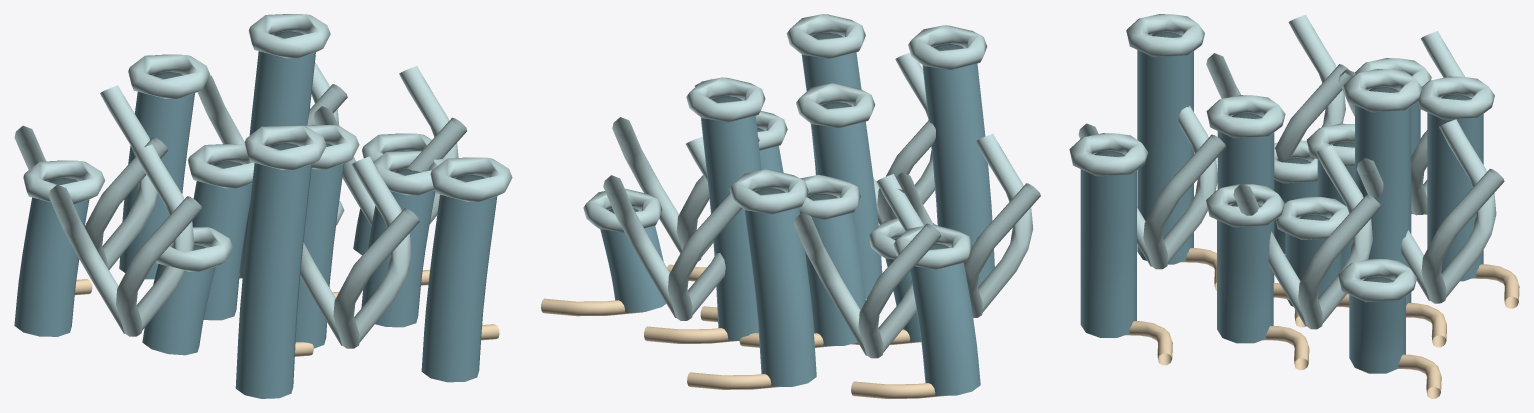
File: bio_thermal_colony_09_far.glb
3 views of the same model, side by side, from view 1: azimuth 30°, elevation 25°; view 2: azimuth 150°, elevation 25°; view 3: azimuth 270°, elevation 25° (orthographic). The views are drawn at different scales.
Visible parts, largest first — view 1: Chimney biofilm.007, Chimney biofilm.010, Spiral filament.012, Spiral filament.006, Chimney biofilm.009, Spiral filament.003, Chimney biofilm.006, Chimney biofilm.002, Chimney biofilm.001, Chimney biofilm.003, Spiral filament, Chimney biofilm.005 (+13 smaller); view 2: Chimney biofilm.006, Chimney biofilm.007, Chimney biofilm.003, Spiral filament.003, Chimney biofilm.009, Spiral filament.009, Spiral filament.012, Chimney biofilm.002, Chimney biofilm.001, Spiral filament, Chimney biofilm.008, Spiral filament.006 (+17 smaller); view 3: Chimney biofilm.010, Chimney biofilm.007, Spiral filament.009, Spiral filament, Chimney biofilm.003, Chimney biofilm.005, Spiral filament.006, Spiral filament.012, Chimney biofilm.006, Chimney biofilm.008, Chimney biofilm.002, Open vent rim.003 (+21 smaller).
Part boxes in pixels (left/top/right/bottom): Chimney biofilm.007: left=235, top=163, right=311, bottom=398; Chimney biofilm.010: left=421, top=194, right=497, bottom=382; Spiral filament.012: left=48, top=144, right=202, bottom=336; Spiral filament.006: left=300, top=156, right=419, bottom=348; Chimney biofilm.009: left=14, top=197, right=89, bottom=336; Spiral filament.003: left=14, top=85, right=167, bottom=269; Chimney biofilm.006: left=119, top=92, right=194, bottom=279; Chimney biofilm.002: left=295, top=163, right=344, bottom=348; Chimney biofilm.001: left=192, top=181, right=252, bottom=320; Chimney biofilm.003: left=239, top=51, right=315, bottom=278; Spiral filament: left=313, top=66, right=466, bottom=226; Chimney biofilm.005: left=361, top=190, right=435, bottom=327; Chimney biofilm.006: left=744, top=191, right=816, bottom=386; Chimney biofilm.007: left=922, top=47, right=994, bottom=287; Chimney biofilm.003: left=700, top=116, right=761, bottom=340; Spiral filament.003: left=794, top=174, right=941, bottom=358; Chimney biofilm.009: left=910, top=263, right=980, bottom=395; Spiral filament.009: left=603, top=136, right=742, bottom=320; Spiral filament.012: left=896, top=134, right=1040, bottom=317; Chimney biofilm.002: left=811, top=105, right=882, bottom=298; Chimney biofilm.001: left=805, top=196, right=865, bottom=345; Spiral filament: left=612, top=78, right=759, bottom=261; Chimney biofilm.008: left=600, top=210, right=666, bottom=312; Spiral filament.006: left=873, top=52, right=935, bottom=224; Chimney biofilm.010: left=1080, top=154, right=1136, bottom=337; Chimney biofilm.007: left=1137, top=35, right=1193, bottom=264; Spiral filament.009: left=1357, top=119, right=1504, bottom=303; Spiral filament: left=1233, top=145, right=1380, bottom=329; Chimney biofilm.003: left=1355, top=90, right=1411, bottom=306; Chimney biofilm.005: left=1217, top=206, right=1273, bottom=343; Spiral filament.006: left=1078, top=105, right=1226, bottom=269; Spiral filament.012: left=1206, top=14, right=1352, bottom=161; Chimney biofilm.006: left=1427, top=98, right=1483, bottom=281; Chimney biofilm.008: left=1349, top=280, right=1405, bottom=373; Chimney biofilm.002: left=1217, top=116, right=1274, bottom=282; Open vent rim.003: left=1343, top=69, right=1422, bottom=112.
Bounding box in the file's own units: 1.75 × 0.9503 × 1.59.
